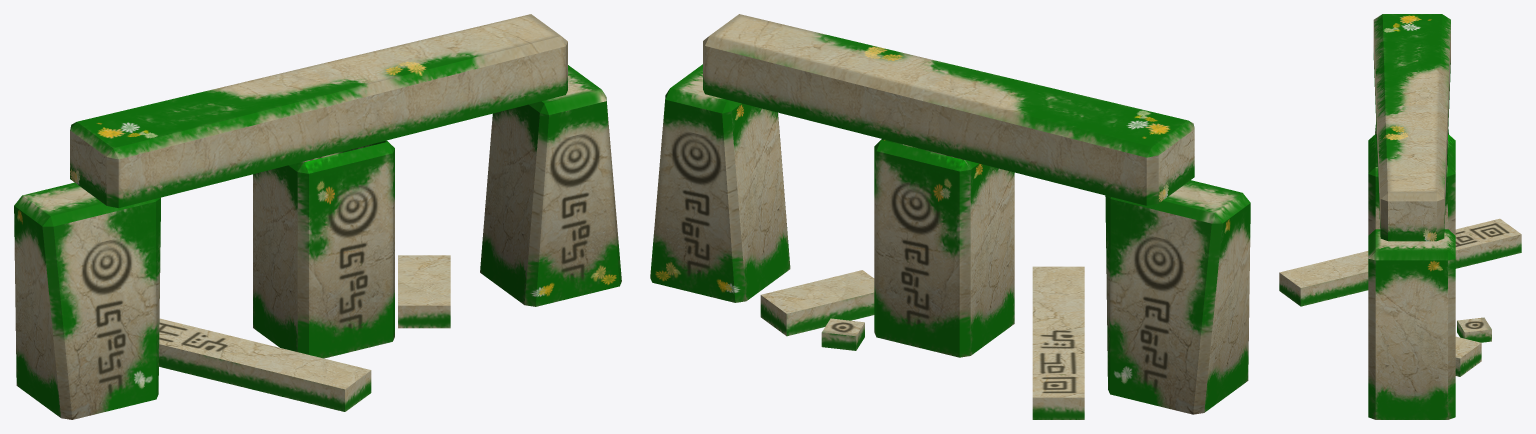
The model's file is ms_WallStoneHenge01.fbx.
The picture shows the model from 3 angles, left to right: view 1: azimuth 30°, elevation 25°; view 2: azimuth 150°, elevation 25°; view 3: azimuth 270°, elevation 25°; orthographic projection. The views are drawn at different scales.
Visible parts, largest first — view 1: polySurface11; view 2: polySurface11; view 3: polySurface11.
Boxes of the visible parts, x1=… form: polySurface11: x1=14, y1=14, x2=621, y2=419; polySurface11: x1=650, y1=14, x2=1250, y2=419; polySurface11: x1=1279, y1=14, x2=1521, y2=419.
Bounding box in the file's own units: 399 × 172 × 180.
